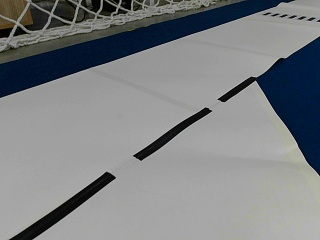crosswalk: (261, 11, 319, 22)
